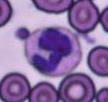N: (26, 26, 81, 76)
